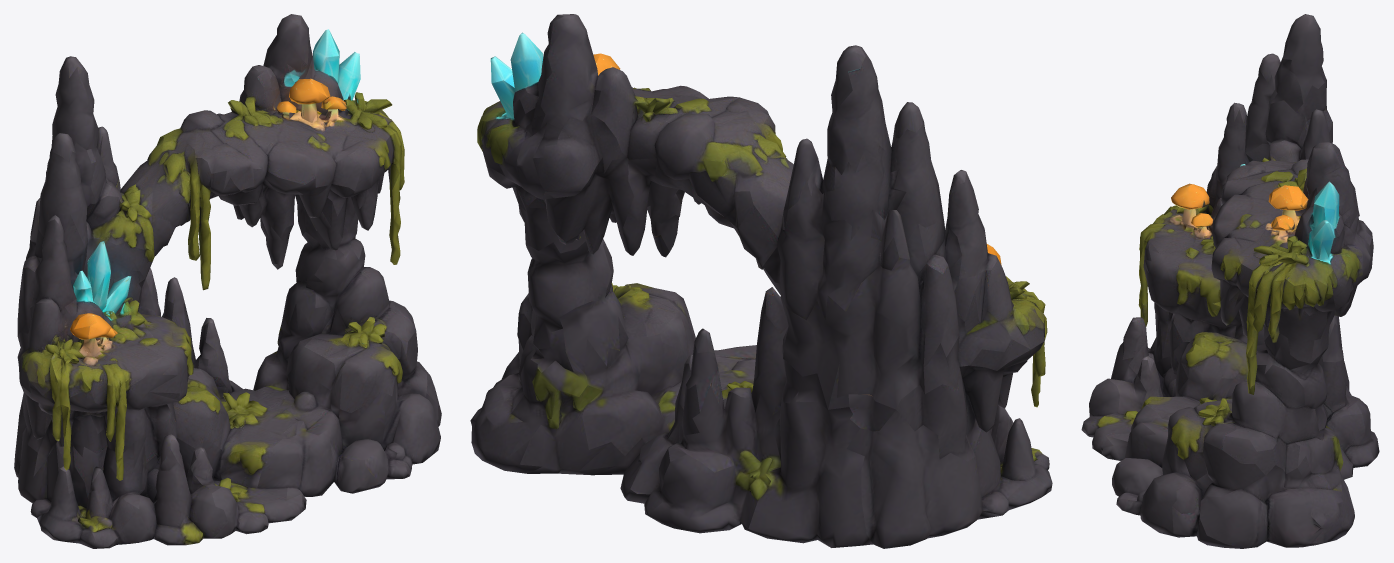
The model's file is cave-crystalcap.glb.
The picture shows the model from 3 angles, left to right: view 1: azimuth 30°, elevation 25°; view 2: azimuth 150°, elevation 25°; view 3: azimuth 270°, elevation 25°; orthographic projection. The views are drawn at different scales.
Size of the model in its own units: 1.9 by 1.73 by 1.21.
1 material, 1 textured.
